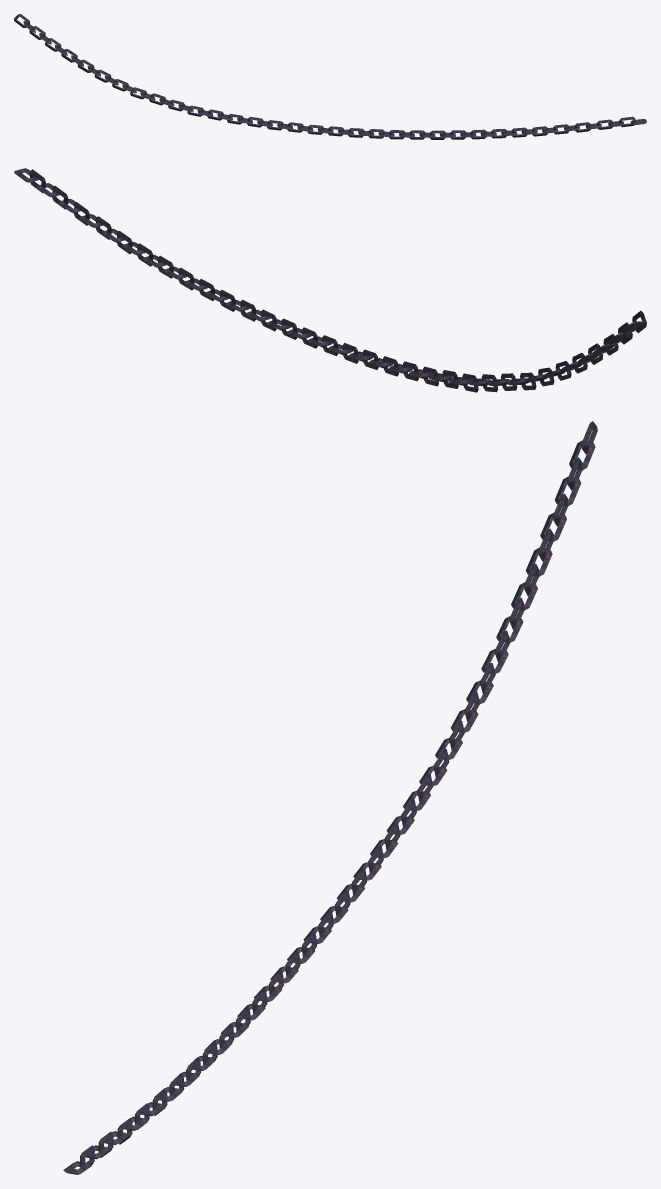
The model's file is flame_chain_001.fbx.
The picture shows the model from 3 angles, top to bottom: view 1: azimuth 30°, elevation 25°; view 2: azimuth 150°, elevation 25°; view 3: azimuth 270°, elevation 25°; orthographic projection. The views are drawn at different scales.
Parts seen in each view (by area): view 1: flame_chain_001; view 2: flame_chain_001; view 3: flame_chain_001.
Boxes of the visible parts, x1=… form: flame_chain_001: x1=14, y1=14, x2=646, y2=139; flame_chain_001: x1=14, y1=168, x2=646, y2=392; flame_chain_001: x1=63, y1=421, x2=597, y2=1174.
Size of the model in its own units: 41.04 by 11.26 by 18.91.
